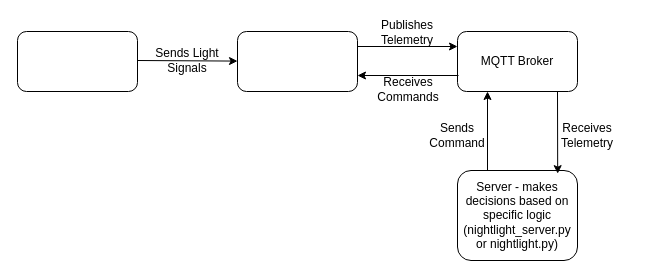
This 655x278 diagram has some shape labels left out. Each missing label, with the centre of its shape:
"ESP32 (main.cpp)" goes at [297,61].
"Light Sensor" goes at [77,61].
